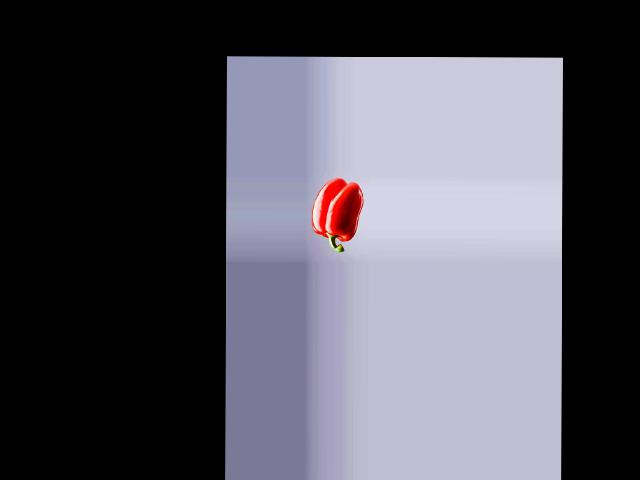bell_pepper: (309, 180, 364, 253)
